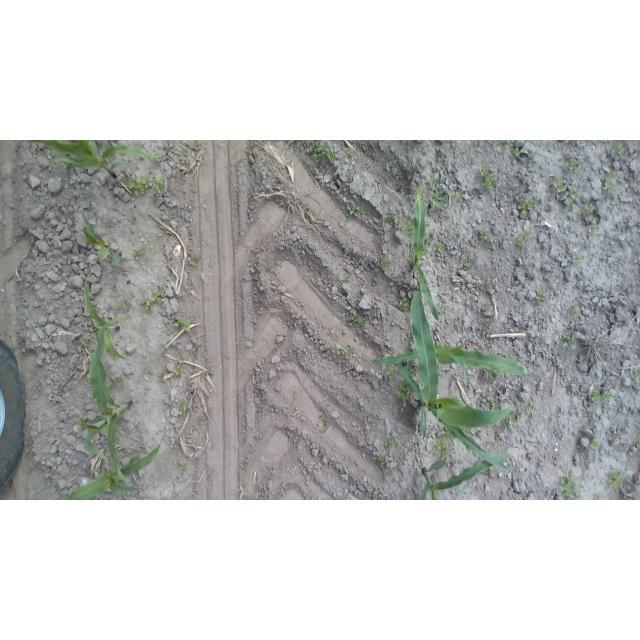Maize: (398, 291, 515, 474), (66, 412, 160, 501), (82, 315, 130, 463), (372, 342, 524, 379), (406, 185, 441, 321), (417, 454, 513, 500), (31, 140, 153, 176), (83, 273, 132, 361), (80, 206, 120, 266)
Weeds: (426, 175, 449, 210), (129, 176, 166, 197), (384, 212, 413, 236), (433, 429, 455, 460), (311, 140, 335, 164), (559, 474, 583, 498), (479, 164, 500, 189), (396, 380, 412, 408), (169, 314, 191, 332), (344, 204, 366, 221), (607, 469, 623, 491), (503, 412, 522, 429), (591, 388, 614, 402), (517, 230, 532, 251), (567, 189, 580, 212), (150, 148, 163, 168), (562, 332, 577, 349), (321, 405, 330, 432), (552, 177, 567, 193), (518, 201, 535, 215), (151, 285, 165, 302), (345, 315, 363, 327), (566, 157, 580, 172), (588, 435, 601, 451), (384, 436, 399, 449), (604, 183, 620, 195), (378, 256, 392, 269), (172, 363, 185, 377), (536, 292, 549, 305), (188, 254, 201, 267), (133, 248, 146, 261), (584, 412, 597, 425), (525, 401, 537, 415), (583, 203, 596, 215), (459, 425, 472, 437), (88, 317, 99, 331), (398, 296, 408, 311), (192, 343, 202, 357), (143, 299, 153, 313), (424, 230, 433, 245), (76, 417, 87, 429), (304, 205, 316, 216), (608, 170, 620, 181), (111, 380, 125, 389), (385, 370, 396, 381), (571, 301, 581, 313), (432, 243, 444, 253), (372, 456, 385, 465), (456, 188, 465, 201), (340, 348, 352, 357), (479, 235, 491, 244), (178, 404, 186, 417), (504, 140, 517, 148), (617, 144, 627, 154), (450, 394, 461, 403), (58, 161, 70, 169), (492, 370, 505, 377), (408, 366, 417, 376), (458, 251, 469, 259), (178, 155, 189, 163), (105, 220, 114, 229), (344, 147, 353, 156), (576, 255, 585, 264), (463, 262, 473, 270), (55, 388, 65, 396), (587, 225, 597, 233), (123, 299, 131, 309), (512, 148, 521, 156), (108, 284, 117, 292), (492, 400, 501, 408), (633, 372, 640, 382), (493, 439, 504, 445), (157, 372, 165, 380), (269, 188, 276, 197), (596, 493, 605, 500), (345, 172, 352, 181), (200, 415, 208, 422), (343, 275, 351, 282), (162, 347, 169, 355), (361, 181, 369, 188), (487, 343, 496, 349), (81, 339, 89, 345), (56, 408, 65, 413), (613, 435, 620, 441), (181, 466, 187, 473), (442, 308, 449, 313), (538, 140, 545, 144), (185, 284, 190, 289), (266, 196, 271, 200), (564, 141, 570, 144), (637, 444, 640, 447)
